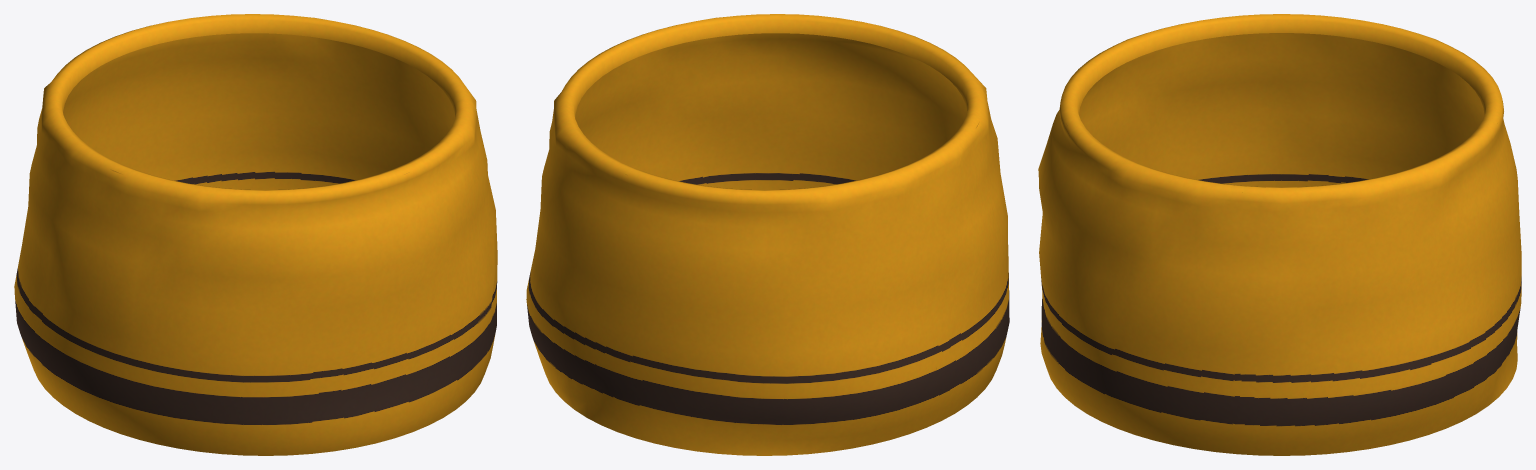
File: sweater-crouch.fbx
3 views of the same model, side by side, from view 1: azimuth 30°, elevation 25°; view 2: azimuth 150°, elevation 25°; view 3: azimuth 270°, elevation 25° (orthographic).
Visible parts, largest first — view 1: sweater-crouch; view 2: sweater-crouch; view 3: sweater-crouch.
Boxes of the visible parts, x1,y1,x2,y2 form: sweater-crouch: (14, 14, 497, 455); sweater-crouch: (526, 14, 1009, 455); sweater-crouch: (1038, 14, 1521, 455).
Bounding box in the file's own units: 63.58 × 37.7 × 63.88.
Materials: 1 (1 with a texture image).
